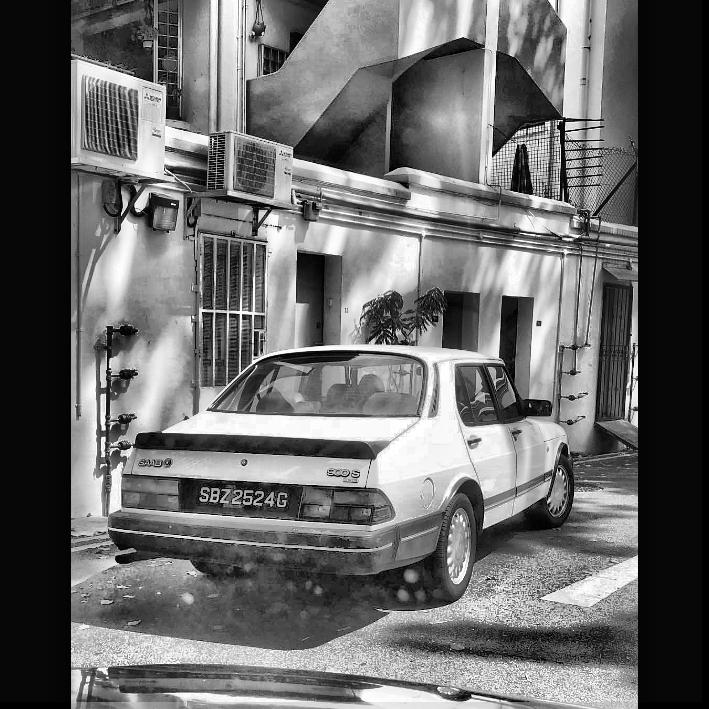License-Plates: (196, 484, 289, 510)
